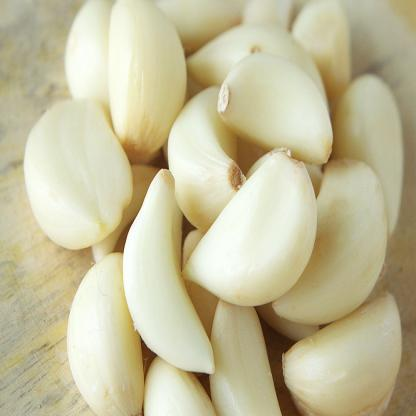garlic: (121, 154, 212, 376), (204, 152, 328, 310), (21, 88, 136, 249), (48, 245, 153, 415), (212, 43, 340, 160), (275, 312, 415, 415), (306, 168, 400, 320), (158, 61, 245, 222), (200, 278, 292, 416), (110, 0, 181, 162)
